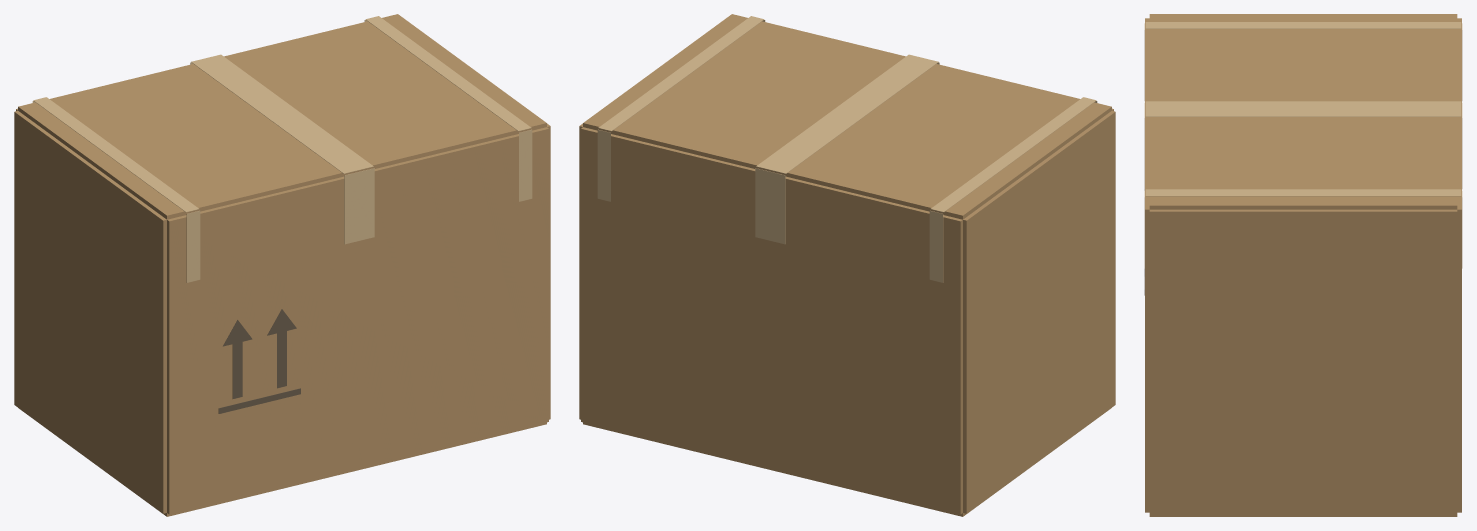
Rendered from SIMUS_Prop_HeavyBox.fbx.
3 views of the same model, side by side, from view 1: azimuth 30°, elevation 25°; view 2: azimuth 150°, elevation 25°; view 3: azimuth 270°, elevation 25° (orthographic). The views are drawn at different scales.
Visible parts, largest first — view 1: PROP_HEAVY_BOX, PROP_HEAVY_BOX_TAPE, PROP_HEAVY_BOX_LABEL; view 2: PROP_HEAVY_BOX, PROP_HEAVY_BOX_TAPE; view 3: PROP_HEAVY_BOX, PROP_HEAVY_BOX_TAPE.
Part boxes in pixels (left/top/right/bottom): PROP_HEAVY_BOX: left=14, top=14, right=550, bottom=516; PROP_HEAVY_BOX_TAPE: left=32, top=16, right=532, bottom=282; PROP_HEAVY_BOX_LABEL: left=218, top=309, right=300, bottom=413; PROP_HEAVY_BOX: left=579, top=14, right=1115, bottom=516; PROP_HEAVY_BOX_TAPE: left=597, top=16, right=1097, bottom=282; PROP_HEAVY_BOX: left=1145, top=14, right=1461, bottom=516; PROP_HEAVY_BOX_TAPE: left=1144, top=22, right=1462, bottom=268.
Bounding box in the file's own units: 0.7 × 0.5213 × 0.4826.
